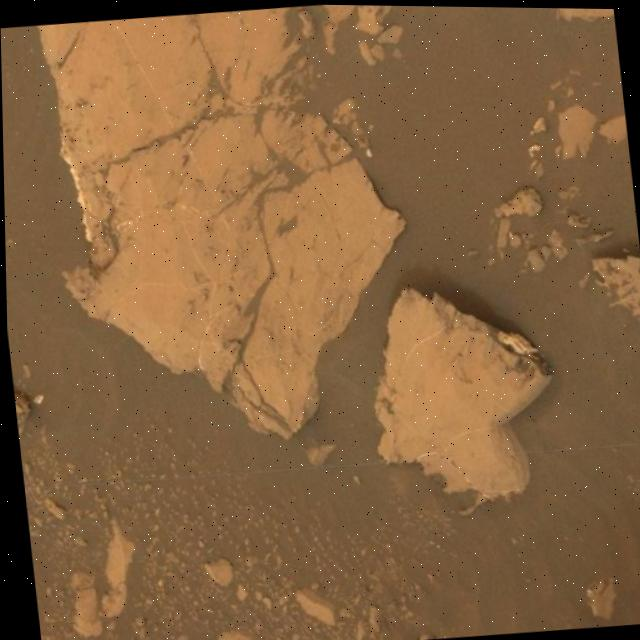mars-rocks: (373, 286, 551, 499)
